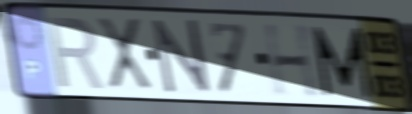7: (207, 19, 249, 97)
H: (260, 21, 324, 101)
M: (309, 23, 376, 100)
N: (150, 17, 214, 97)
R: (44, 14, 107, 92)
X: (93, 15, 156, 94)
